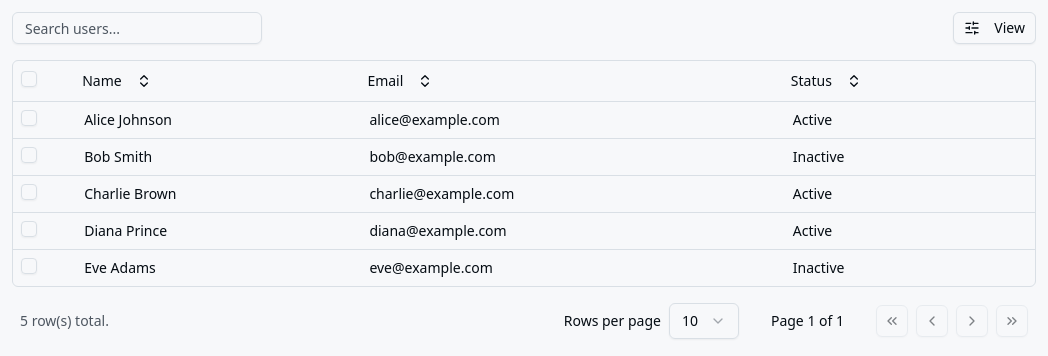
DataTable › Filtering › should show no results when search has no matches
// Type in search input with no matches
Type "NonexistentUser" into the field with placeholder "Search users..." at [137, 28], box 12,12 -> 262,44
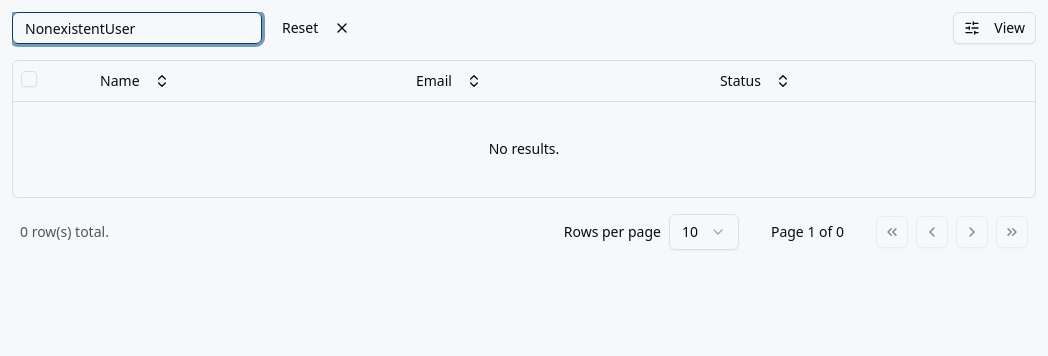
Expected: the text "No results." is shown, 13,101 -> 1035,197
